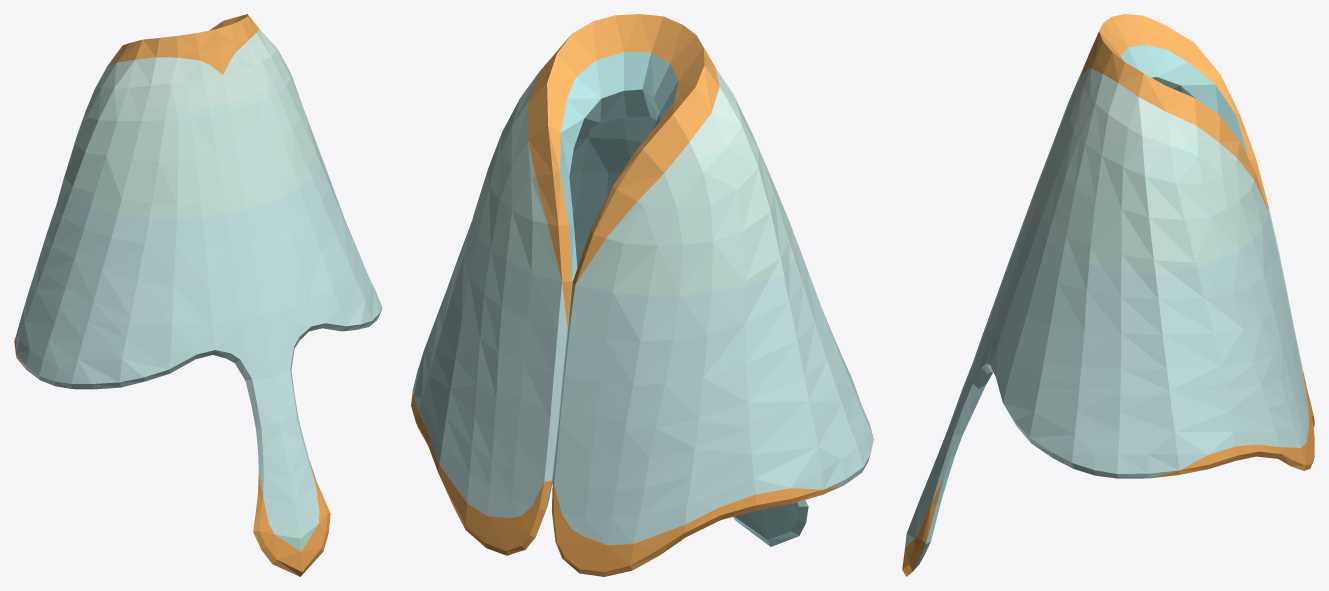
File: CharSkyKid_Wing_AP07Manta_01.glb
3 views of the same model, side by side, from view 1: azimuth 30°, elevation 25°; view 2: azimuth 150°, elevation 25°; view 3: azimuth 270°, elevation 25° (orthographic). The views are drawn at different scales.
Parts seen in each view (by area): view 1: CharSkyKid_Wing_AP07Manta_01; view 2: CharSkyKid_Wing_AP07Manta_01; view 3: CharSkyKid_Wing_AP07Manta_01.
Part boxes in pixels (left/top/right/bottom): CharSkyKid_Wing_AP07Manta_01: left=14, top=14, right=382, bottom=576; CharSkyKid_Wing_AP07Manta_01: left=411, top=14, right=873, bottom=576; CharSkyKid_Wing_AP07Manta_01: left=902, top=14, right=1314, bottom=576.
Bounding box in the file's own units: 6.42 × 8.86 × 6.07.
1 material, 1 textured.
